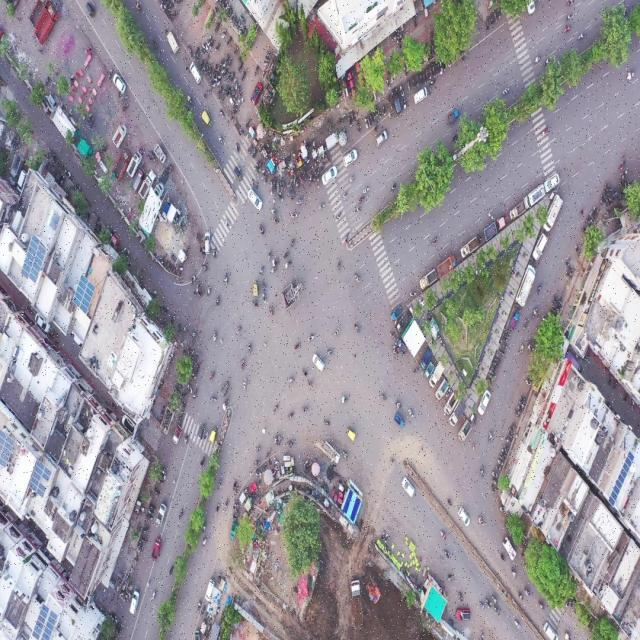3W: (200, 109, 214, 128), (195, 420, 206, 443), (232, 163, 244, 184), (85, 0, 97, 21), (345, 426, 357, 444), (250, 278, 260, 298), (208, 425, 218, 445), (220, 378, 230, 398), (394, 413, 406, 429), (199, 618, 208, 634)
Cars: (247, 189, 266, 213), (400, 474, 416, 500), (502, 535, 517, 562), (533, 233, 547, 261), (311, 351, 327, 374), (342, 146, 358, 169), (542, 621, 560, 640), (478, 389, 491, 415), (390, 87, 402, 115), (543, 174, 560, 193), (188, 61, 202, 84), (129, 587, 140, 615), (249, 81, 263, 103), (321, 166, 337, 185), (412, 88, 428, 106), (454, 606, 472, 622), (204, 576, 215, 601), (459, 506, 471, 528), (113, 74, 126, 94), (373, 130, 388, 147), (204, 227, 212, 256)
LCV: (517, 267, 536, 306), (545, 195, 563, 232), (434, 253, 456, 280), (524, 183, 544, 210), (140, 170, 156, 200), (450, 400, 464, 430), (126, 151, 142, 176), (112, 122, 127, 148), (459, 238, 478, 258), (430, 362, 444, 389), (154, 501, 167, 530), (443, 392, 457, 418), (418, 270, 437, 288), (150, 536, 163, 562), (444, 108, 461, 127), (396, 312, 410, 335), (132, 166, 144, 192), (435, 378, 449, 399), (154, 141, 168, 162), (509, 201, 525, 219), (419, 346, 431, 369), (458, 420, 471, 441), (325, 131, 339, 149), (172, 424, 182, 444), (390, 305, 402, 321), (423, 361, 434, 377), (509, 315, 520, 330), (397, 340, 407, 356)
M2W: (624, 69, 636, 82), (486, 428, 495, 445), (406, 406, 416, 421), (239, 355, 247, 373), (149, 588, 157, 606), (427, 235, 439, 247), (530, 304, 540, 318), (222, 271, 230, 288), (535, 281, 544, 296), (300, 403, 310, 416), (562, 23, 572, 36), (216, 474, 224, 490), (213, 500, 221, 516), (521, 316, 529, 332), (265, 246, 272, 264), (322, 416, 332, 428), (300, 366, 310, 378), (356, 194, 366, 206), (199, 453, 206, 470), (168, 561, 175, 578), (195, 596, 202, 613), (287, 374, 296, 387), (347, 172, 356, 185), (388, 180, 397, 193), (479, 463, 485, 482), (246, 340, 253, 356), (134, 0, 142, 14), (501, 85, 511, 96), (576, 30, 586, 41), (340, 394, 349, 406), (352, 270, 361, 282), (333, 210, 342, 222), (353, 205, 362, 217), (281, 249, 290, 261), (212, 328, 218, 346), (222, 217, 231, 229), (439, 529, 448, 541), (523, 585, 532, 597), (208, 369, 215, 384), (205, 285, 213, 298), (389, 455, 397, 468), (360, 184, 370, 194), (564, 12, 574, 22), (340, 191, 349, 202), (284, 258, 293, 269), (151, 39, 160, 50), (258, 261, 265, 275), (267, 304, 274, 318), (242, 376, 249, 390), (444, 548, 451, 562), (485, 596, 492, 610), (517, 341, 524, 355), (577, 207, 584, 221), (269, 265, 277, 277), (235, 322, 241, 338), (214, 292, 220, 308), (223, 497, 229, 513), (479, 600, 487, 612), (477, 516, 485, 528), (563, 0, 575, 8), (189, 273, 197, 285), (107, 66, 113, 82), (272, 402, 279, 415), (217, 133, 224, 146), (458, 590, 465, 603), (534, 53, 541, 66), (341, 450, 350, 460), (307, 333, 316, 343), (294, 197, 303, 207), (202, 519, 208, 534), (537, 600, 546, 610), (183, 432, 189, 447), (379, 393, 387, 404), (258, 224, 266, 235), (326, 347, 334, 358), (510, 568, 518, 579), (514, 619, 522, 630), (491, 594, 499, 605), (336, 259, 341, 276), (212, 243, 217, 260), (287, 409, 294, 421), (262, 292, 268, 306), (178, 506, 184, 520), (201, 534, 208, 546), (186, 94, 193, 106), (265, 446, 272, 458), (186, 44, 192, 58), (214, 19, 220, 33), (318, 202, 327, 211), (447, 574, 456, 583), (139, 535, 148, 544), (333, 326, 341, 336), (294, 341, 302, 351), (516, 591, 524, 601), (497, 458, 505, 468), (210, 38, 216, 51), (574, 243, 580, 256), (585, 213, 591, 226), (221, 28, 227, 41), (493, 606, 500, 617), (251, 299, 258, 310), (192, 386, 197, 401), (221, 61, 226, 76), (306, 378, 314, 387), (290, 235, 296, 247), (290, 211, 298, 220), (260, 280, 266, 292), (186, 383, 192, 395), (150, 150, 156, 162), (172, 9, 178, 21), (399, 84, 405, 96), (541, 127, 549, 136), (491, 470, 499, 479), (518, 400, 526, 409), (226, 35, 232, 47), (233, 44, 239, 56), (209, 396, 216, 406), (233, 486, 240, 496), (145, 152, 152, 162), (254, 64, 259, 78), (564, 256, 570, 267), (200, 605, 206, 616), (239, 13, 245, 24), (69, 73, 74, 86), (263, 173, 268, 186), (493, 11, 498, 24), (213, 62, 218, 75), (234, 17, 239, 30), (270, 208, 278, 216), (136, 543, 144, 551), (490, 365, 498, 373), (272, 216, 279, 225), (201, 262, 208, 271), (152, 489, 161, 496), (275, 195, 284, 202), (389, 331, 396, 340), (524, 379, 533, 386), (493, 356, 502, 363), (396, 399, 402, 409), (354, 324, 360, 334), (500, 553, 506, 563), (231, 479, 237, 489), (86, 113, 92, 123), (207, 35, 212, 47), (215, 42, 221, 52), (234, 142, 240, 152), (377, 107, 382, 119), (406, 80, 411, 92), (489, 15, 494, 27), (513, 408, 519, 418), (544, 56, 550, 66), (226, 70, 231, 82), (225, 52, 230, 64), (218, 84, 223, 96), (255, 445, 262, 453), (143, 526, 150, 534), (357, 122, 361, 136), (374, 104, 378, 118), (428, 64, 432, 78), (498, 454, 505, 462), (498, 349, 505, 357), (501, 343, 508, 351), (581, 226, 588, 234), (446, 497, 452, 506), (121, 104, 130, 110), (270, 180, 273, 198), (287, 179, 293, 188), (287, 187, 293, 196), (410, 289, 416, 298), (238, 61, 244, 70), (299, 174, 303, 187), (325, 154, 330, 164), (374, 121, 379, 131), (430, 78, 435, 88), (149, 503, 156, 510), (121, 95, 128, 102), (202, 44, 209, 51), (273, 180, 277, 192), (303, 170, 307, 182), (252, 147, 256, 159), (316, 170, 320, 182), (369, 113, 373, 125), (386, 78, 390, 90), (452, 133, 458, 141), (234, 79, 238, 91), (212, 77, 216, 89), (290, 192, 295, 201), (241, 71, 246, 80), (230, 14, 235, 23), (382, 105, 386, 116), (412, 77, 416, 88), (432, 66, 436, 77), (229, 58, 233, 69), (255, 471, 262, 477), (148, 509, 154, 516), (486, 18, 489, 32), (495, 466, 502, 472), (220, 109, 224, 119), (261, 169, 265, 179), (320, 161, 324, 171), (348, 117, 352, 127), (367, 118, 371, 128), (231, 71, 235, 81), (416, 73, 419, 86), (420, 73, 423, 86), (238, 85, 241, 98), (296, 180, 299, 192), (351, 112, 354, 124), (387, 95, 390, 106), (423, 73, 426, 84), (217, 74, 220, 85), (504, 439, 512, 443), (425, 71, 428, 81), (435, 64, 438, 74), (438, 62, 440, 73)
Truck: (34, 3, 58, 44), (348, 576, 365, 630), (112, 149, 130, 180)
